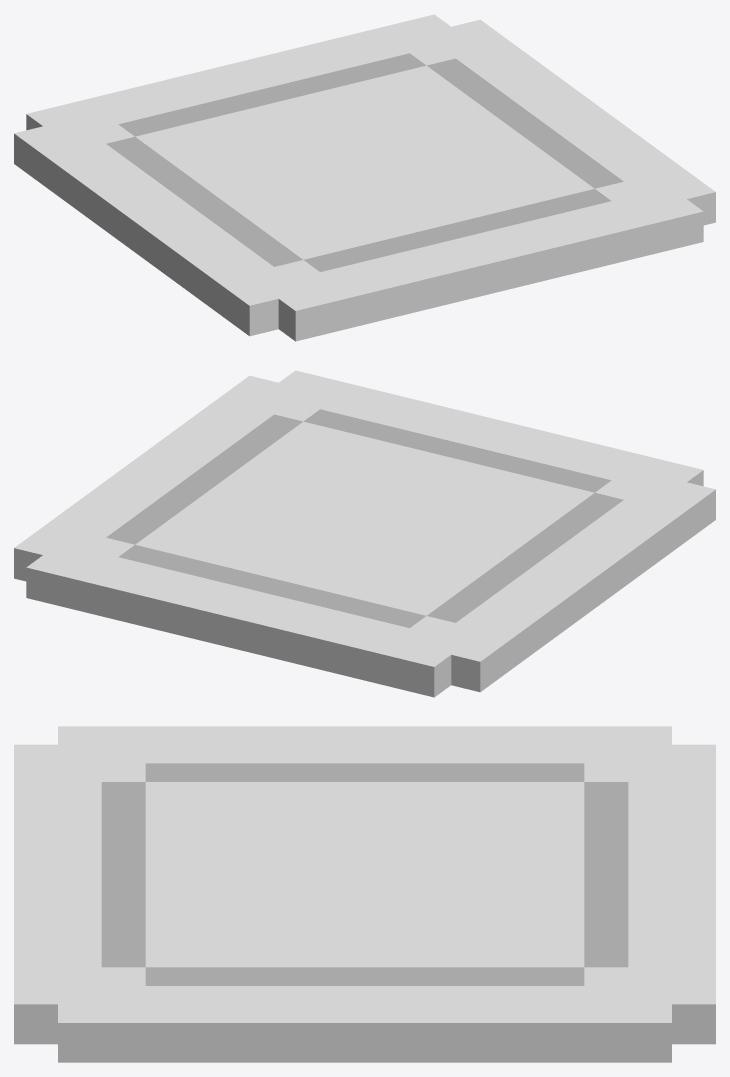
Rendered from botao.obj.
The picture shows the model from 3 angles, top to bottom: view 1: azimuth 30°, elevation 25°; view 2: azimuth 150°, elevation 25°; view 3: azimuth 270°, elevation 25°; orthographic projection. The views are drawn at different scales.
Bounding box in the file's own units: 1.6 × 0.1 × 1.6.
1 material, 1 textured.
